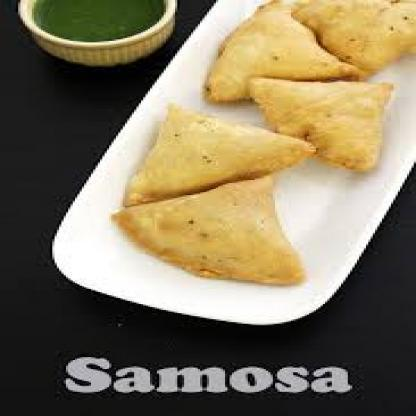samosa: (115, 176, 307, 285), (125, 106, 317, 206), (206, 0, 360, 104), (251, 78, 393, 169), (291, 0, 416, 74)
